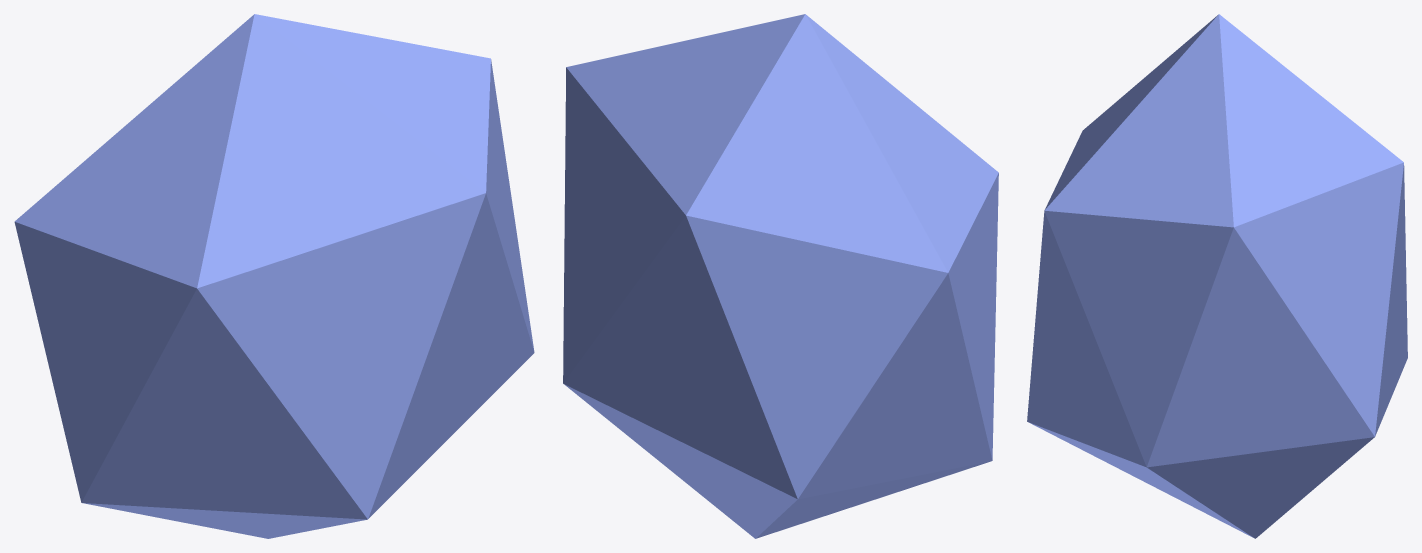
Rendered from tree_top_2.fbx.
3 renders of one model, left to right at view 1: azimuth 30°, elevation 25°; view 2: azimuth 150°, elevation 25°; view 3: azimuth 270°, elevation 25°, orthographic. The views are drawn at different scales.
Parts seen in each view (by area): view 1: Icosphere.011; view 2: Icosphere.011; view 3: Icosphere.011.
Boxes of the visible parts, box(x1,y1,x2,y2) form: Icosphere.011: box(14, 14, 534, 538); Icosphere.011: box(563, 14, 998, 538); Icosphere.011: box(1027, 14, 1407, 538).
Bounding box in the file's own units: 11.56 × 14.35 × 17.07.
